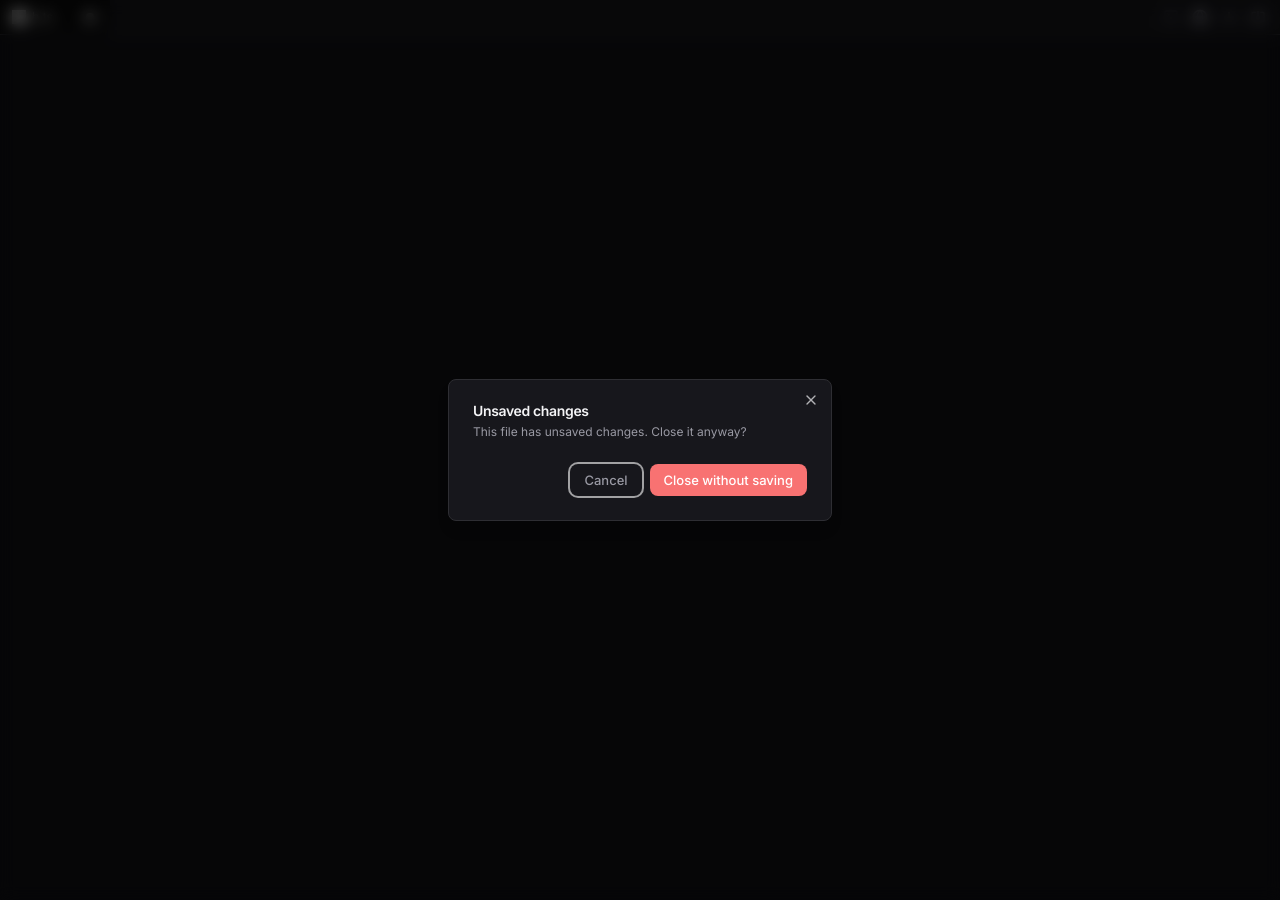
Test: EditorTabs › maverick:closeActiveTab (⌘W) › Cancel button in unsaved-changes confirm closes dialog without removing the tab
Expected: the heading "Unsaved changes" is shown, left=473, top=402, right=589, bottom=419
Click the button "Cancel".
click(606, 480)  # box left=570, top=464, right=642, bottom=496
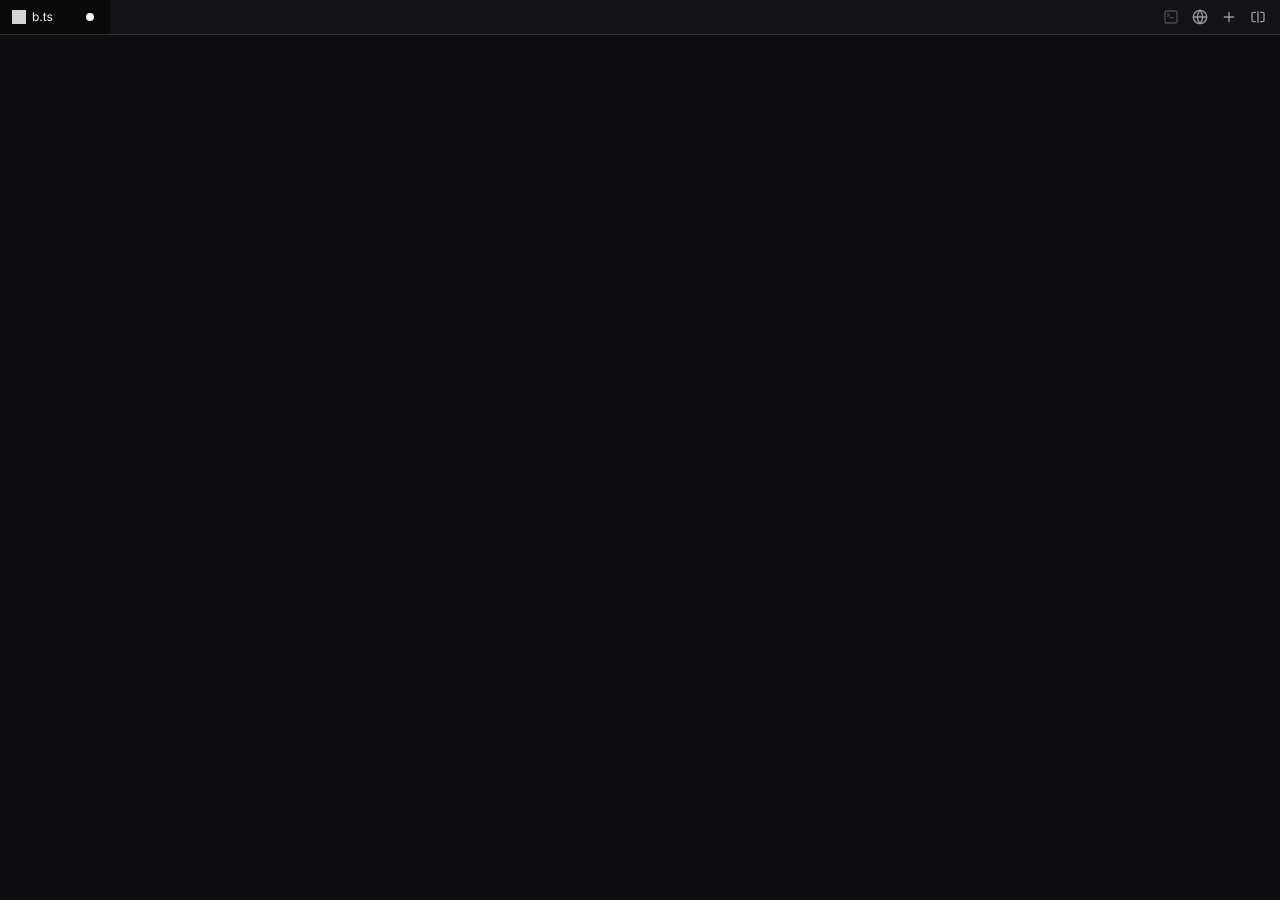
Result: the heading "Unsaved changes" is gone
